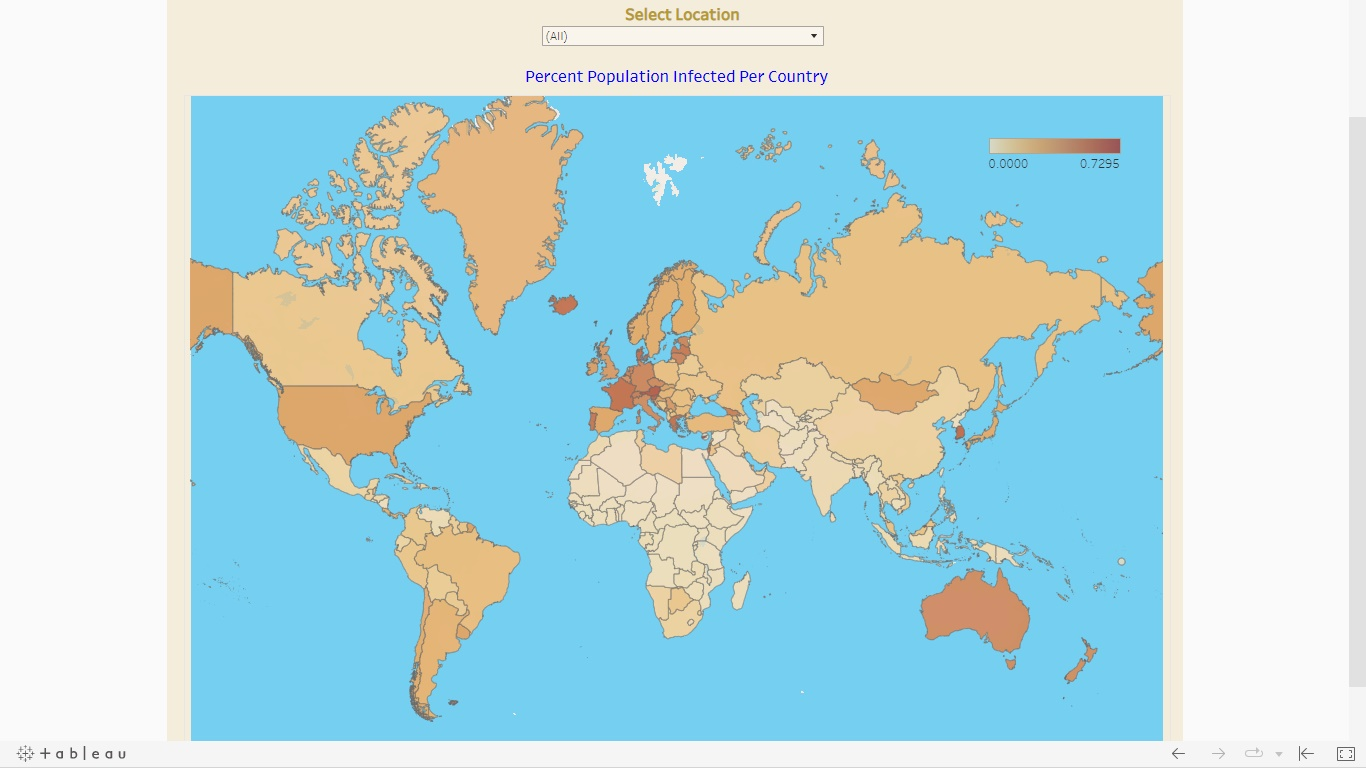

The dashboard page shown, as its layout file describes it:
{"tool":"tableau","page":{"name":"Dashboard 3","canvas":[1000,800],"ordinal":2},"visuals":[{"type":"filter","title":"% Popn Infected MAP","param":"[federated.1asb4fa1wln7do17wcsbm03noozh].[none:Location:nk]","box":[366,9,284,55]},{"type":"worksheet","title":"% Popn Infected MAP","mark":"Automatic","box":[9,64,987,729]},{"type":"legend","title":"% Popn Infected MAP","param":"[federated.1asb4fa1wln7do17wcsbm03noozh].[sum:PercentPopulationInfected:qk]","box":[810,141,140,53]}]}

Visuals, with their boxes in screenshot pixels (x1, y1, x2, y2):
"% Popn Infected MAP" filter: rect(541, 0, 820, 20)
"% Popn Infected MAP" worksheet: rect(190, 20, 1159, 736)
"% Popn Infected MAP" legend: rect(977, 96, 1114, 148)
